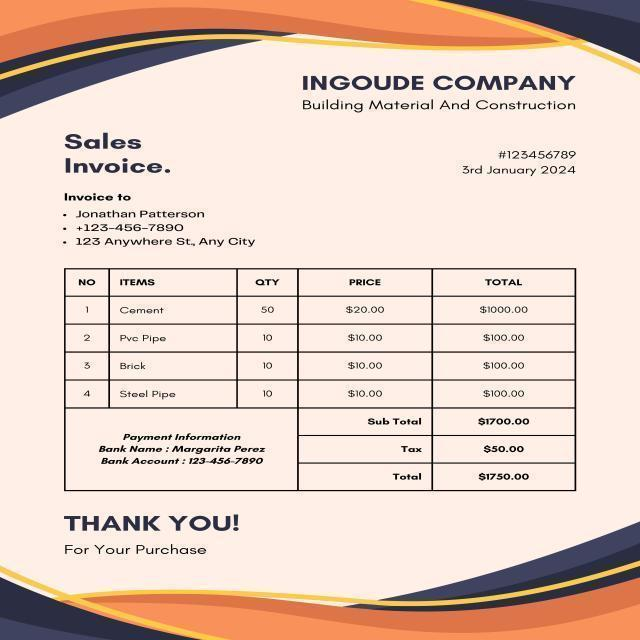ROI: (65, 269, 577, 404), (299, 410, 575, 492), (294, 71, 583, 117), (60, 192, 262, 254), (95, 429, 269, 473), (60, 131, 176, 178), (458, 143, 587, 182)
